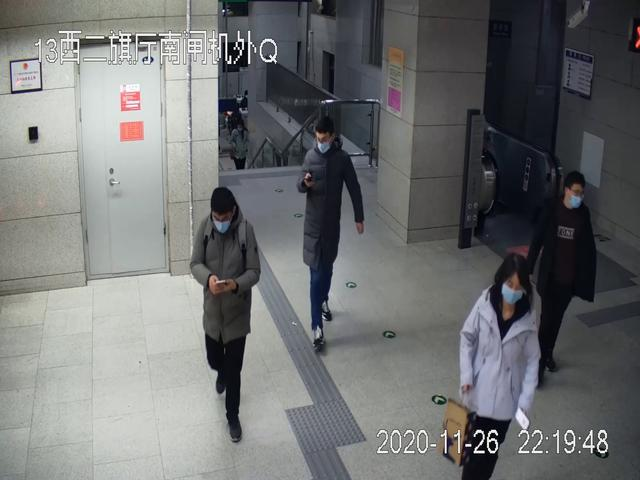person: (458, 253, 540, 480), (189, 185, 261, 442), (297, 116, 366, 353), (526, 171, 597, 392)
